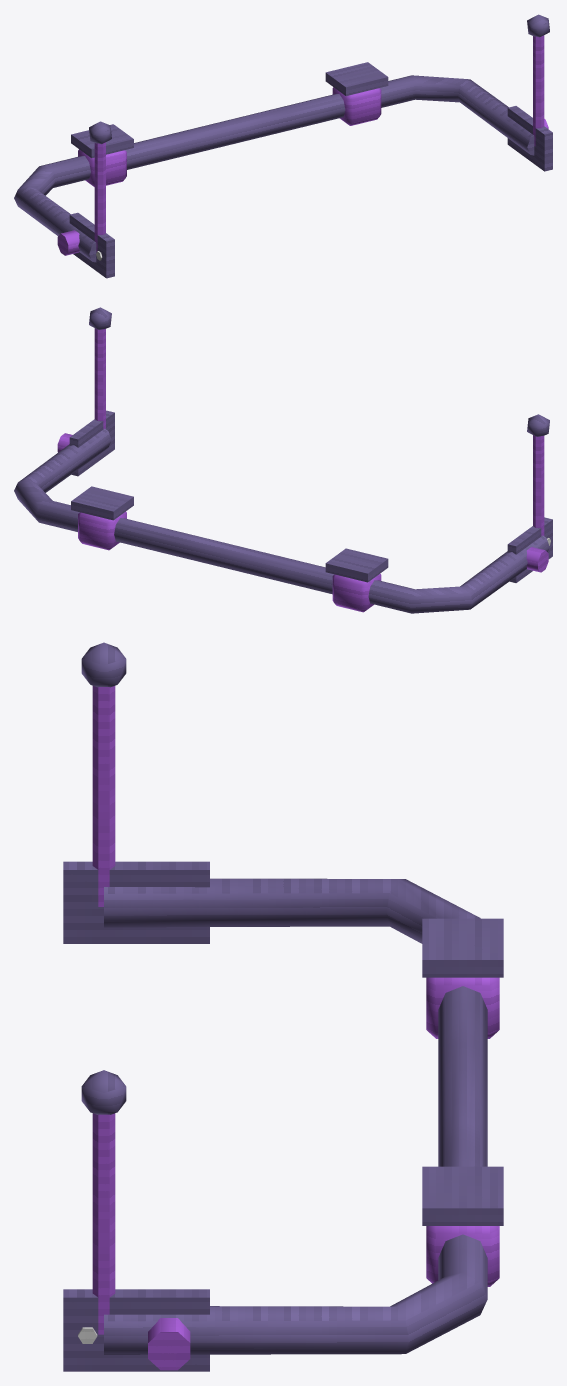
Rendered from barras_n5.glb.
3 views of the same model, one above another, from view 1: azimuth 30°, elevation 25°; view 2: azimuth 150°, elevation 25°; view 3: azimuth 270°, elevation 25° (orthographic). The views are drawn at different scales.
Visible parts, largest first — view 1: barras_n5; view 2: barras_n5; view 3: barras_n5.
Boxes of the visible parts, box(x1,y1,x2,y2) form: barras_n5: box(14, 14, 552, 278); barras_n5: box(14, 307, 552, 613); barras_n5: box(63, 642, 503, 1371).
Size of the model in its own units: 0.68 by 0.201 by 0.27.
2 materials, 2 textured.
